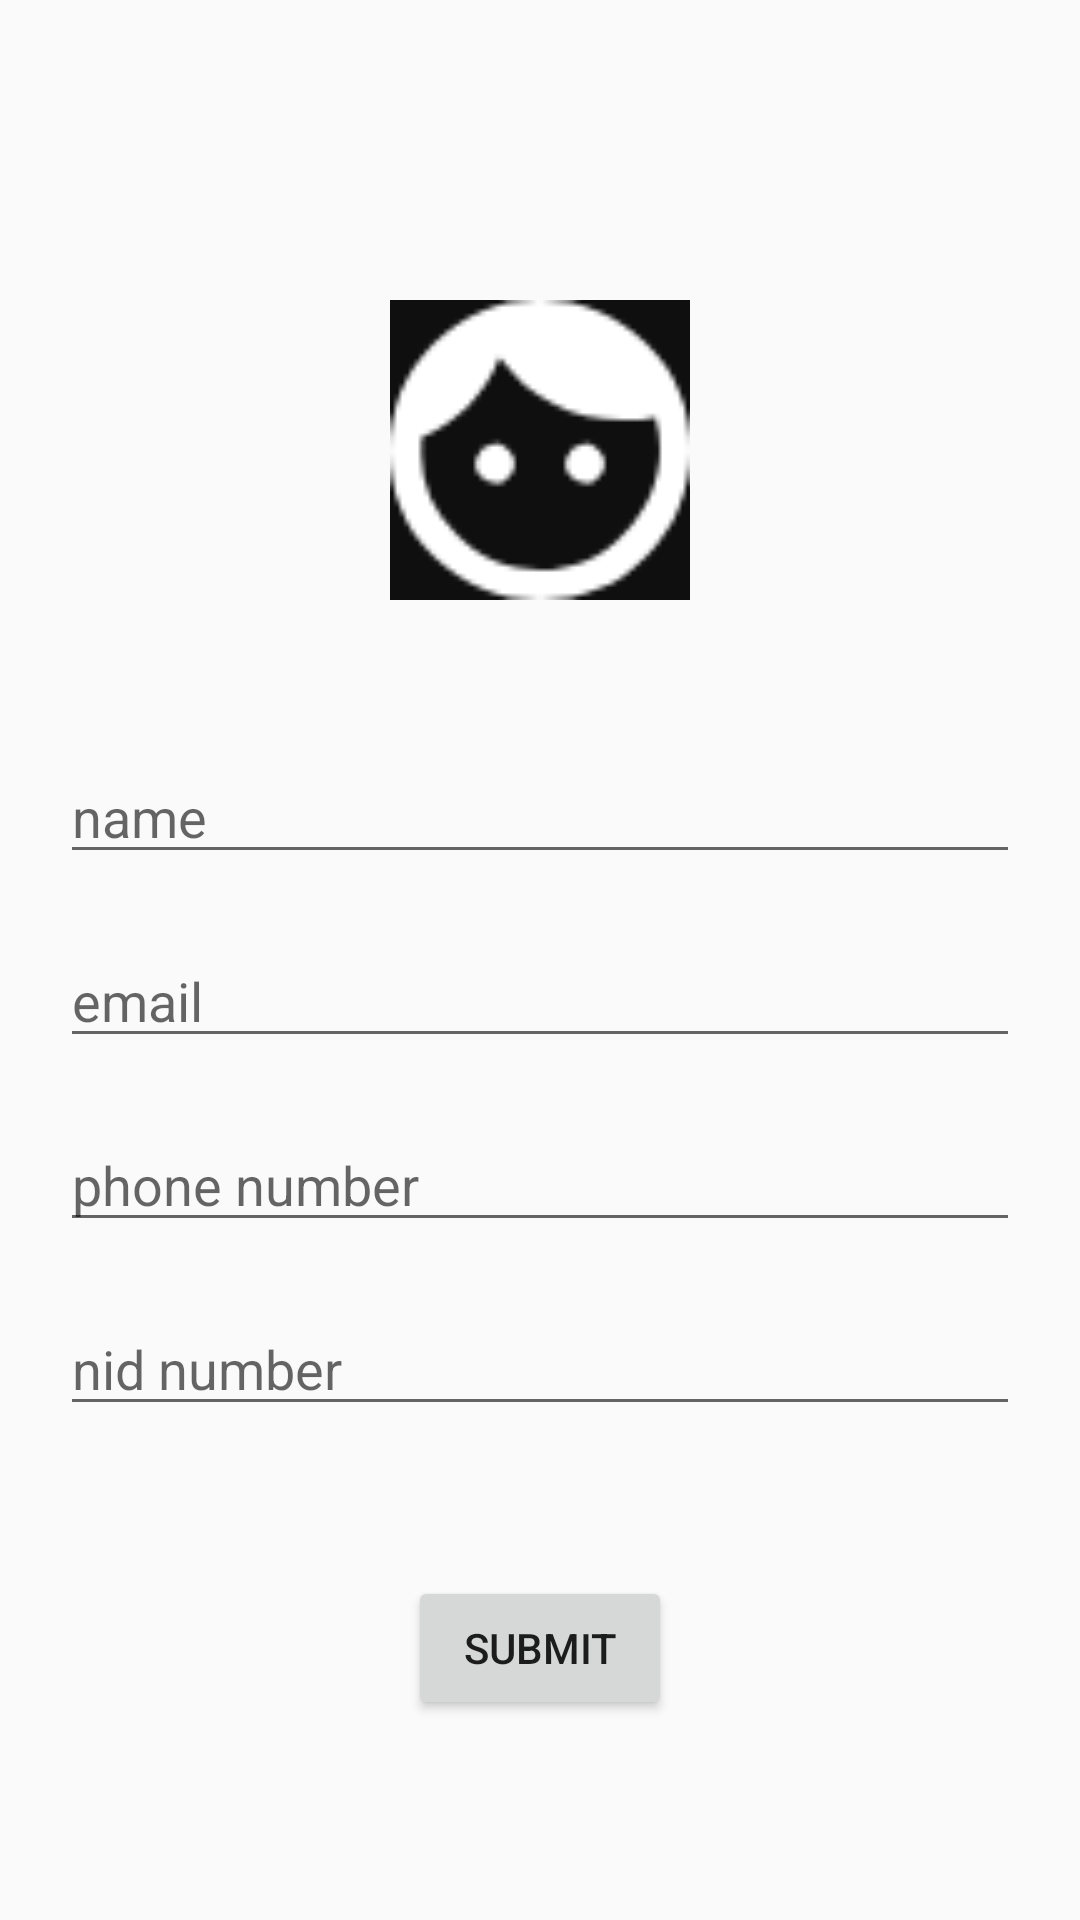

Icon bounding boxes for this 1080 × 1920 phone screenshot, format (x1, y1, x2, y2):
profile: (390, 300, 690, 600)
